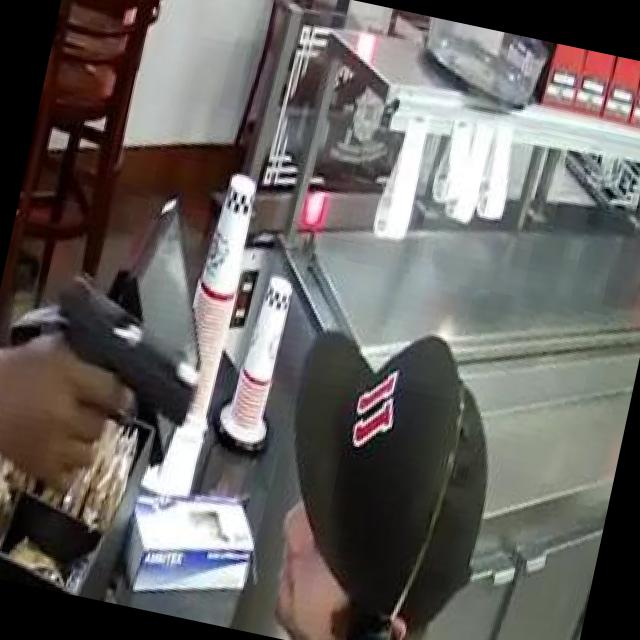Guns: (11, 234, 241, 492)
